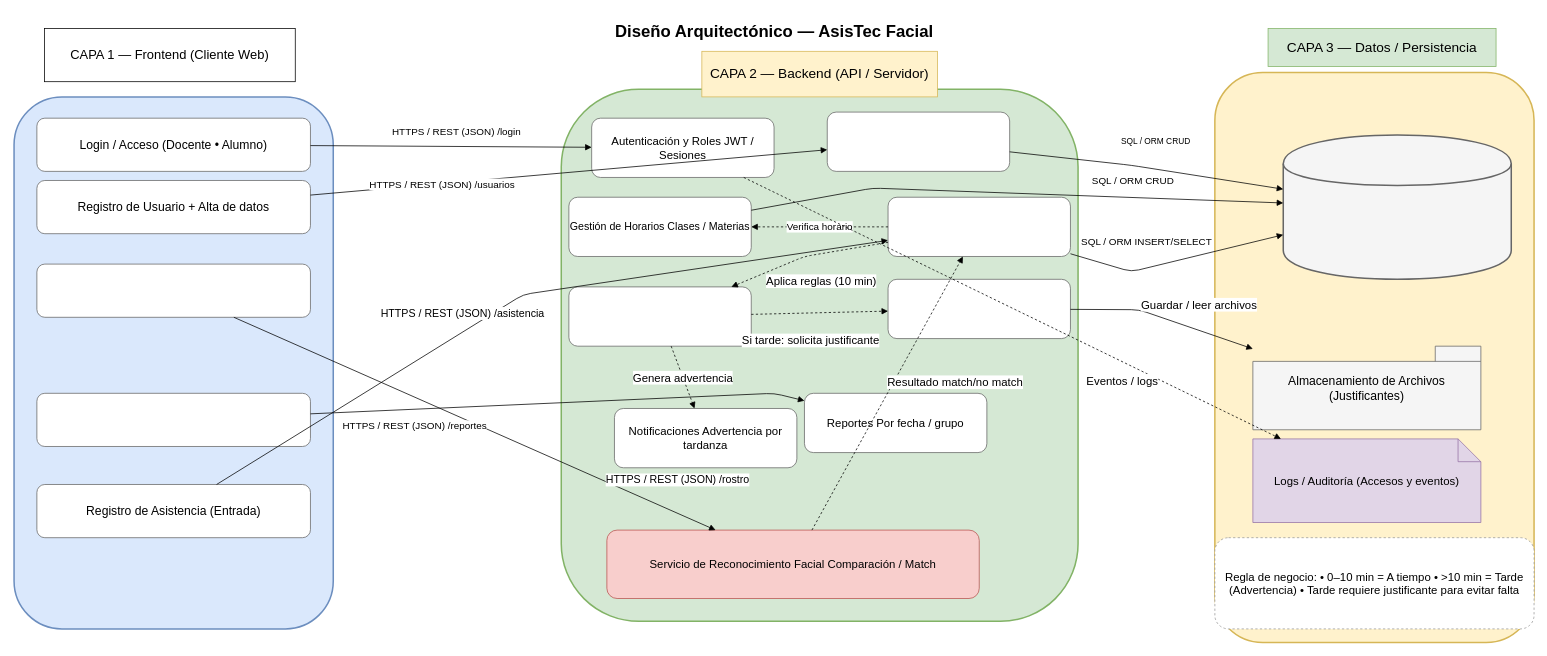
Some shapes in this 1547 by 656 pixel diagram are drawn without their labels. The shapes that lost their labels are listed below. From the top down, each one's box as (x1, y1, x2, y2) in pixels, then its label:
(826, 111, 1010, 171): Gestión de Usuarios Docente / Alumno
(887, 196, 1070, 256): Módulo de Asistencia Registrar / Consultar
(1282, 134, 1512, 280): PostgreSQL (Usuarios • Horarios • Asistencias • Advertencias)
(36, 263, 310, 317): Captura de Rostro (Cámara Web)
(887, 279, 1070, 339): Justificantes y Evidencias Subir / Revisar
(568, 286, 751, 346): Motor de Reglas Tolerancia 10 min
(36, 393, 310, 446): Panel Docente (Reportes / Asistencias)
